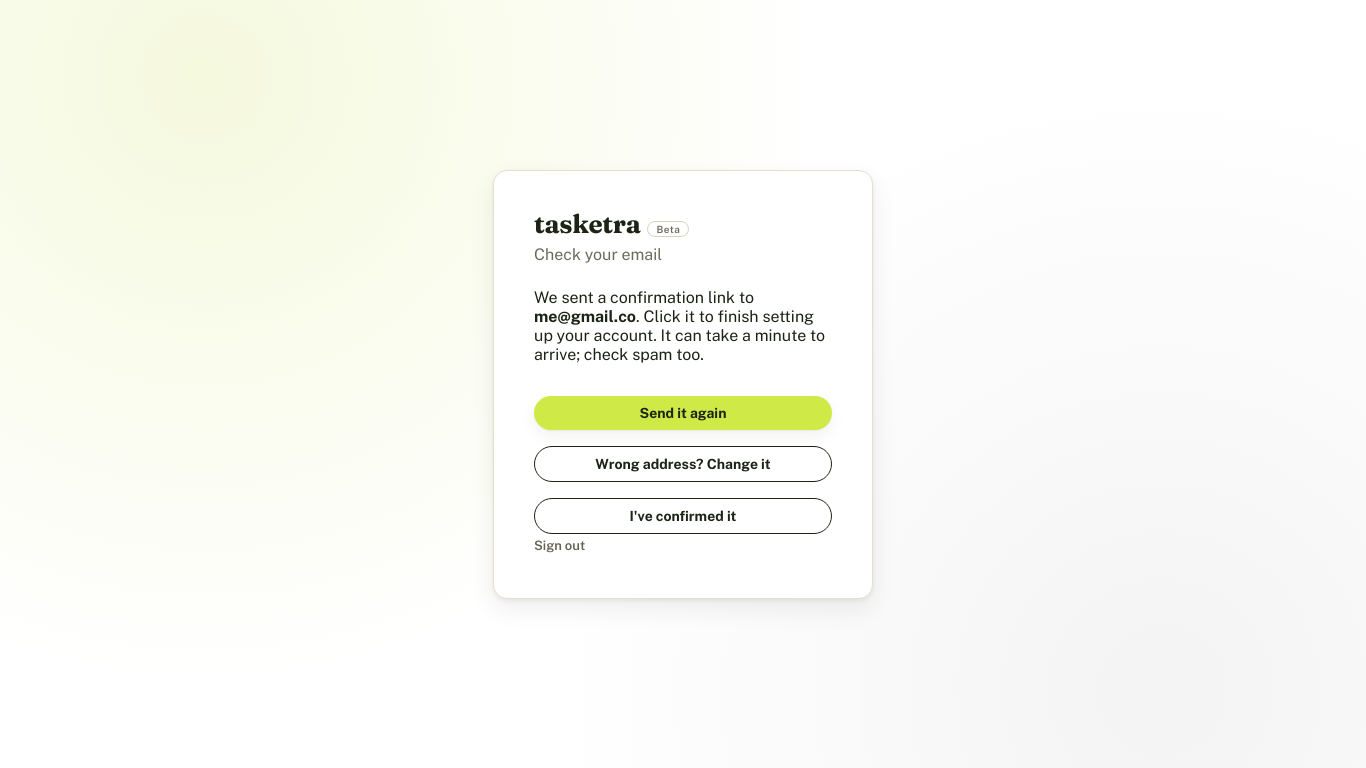
it: VerifyEmailGate › names the address and can resend the link
The image size is (1366, 768).
Click the button "Send it again".
click(683, 412)  # box left=534, top=396, right=832, bottom=430
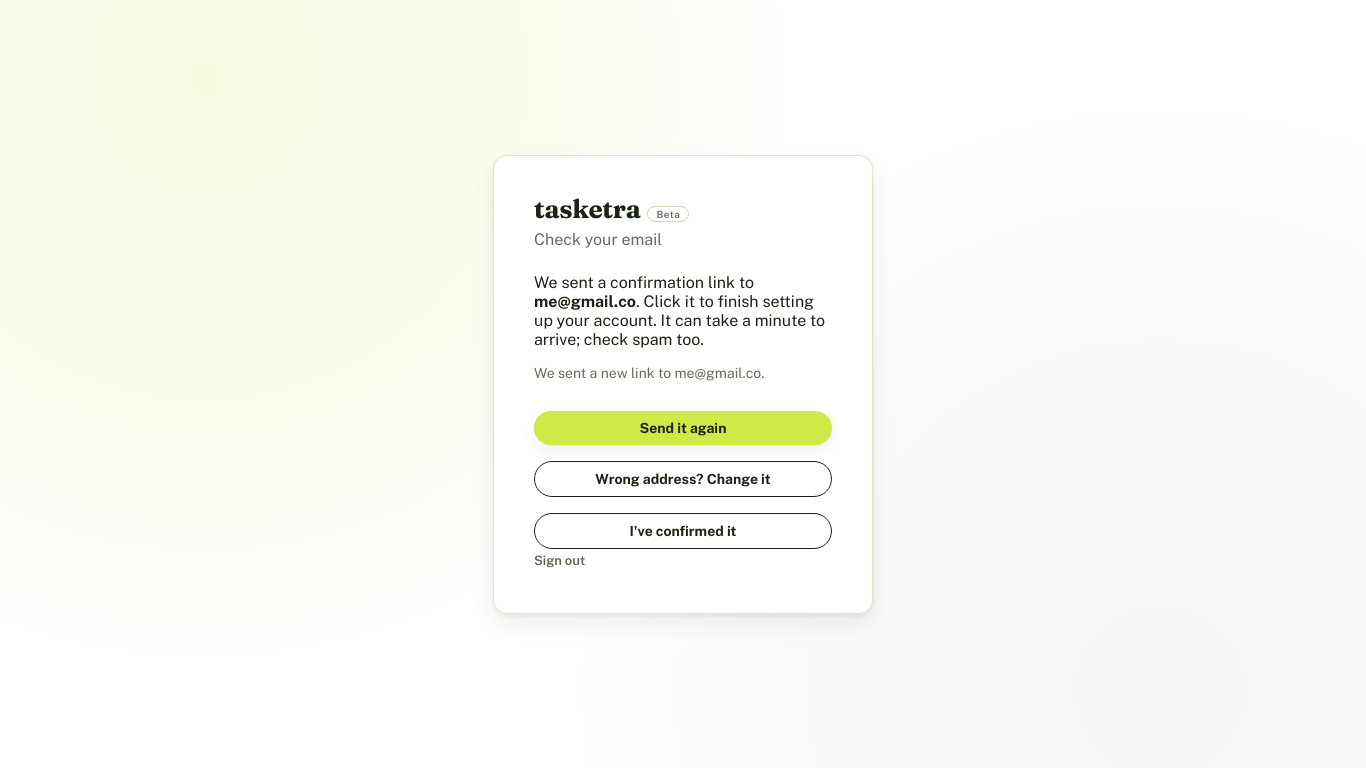
expect the text "We sent a new link" is shown: met, box left=534, top=364, right=764, bottom=380
